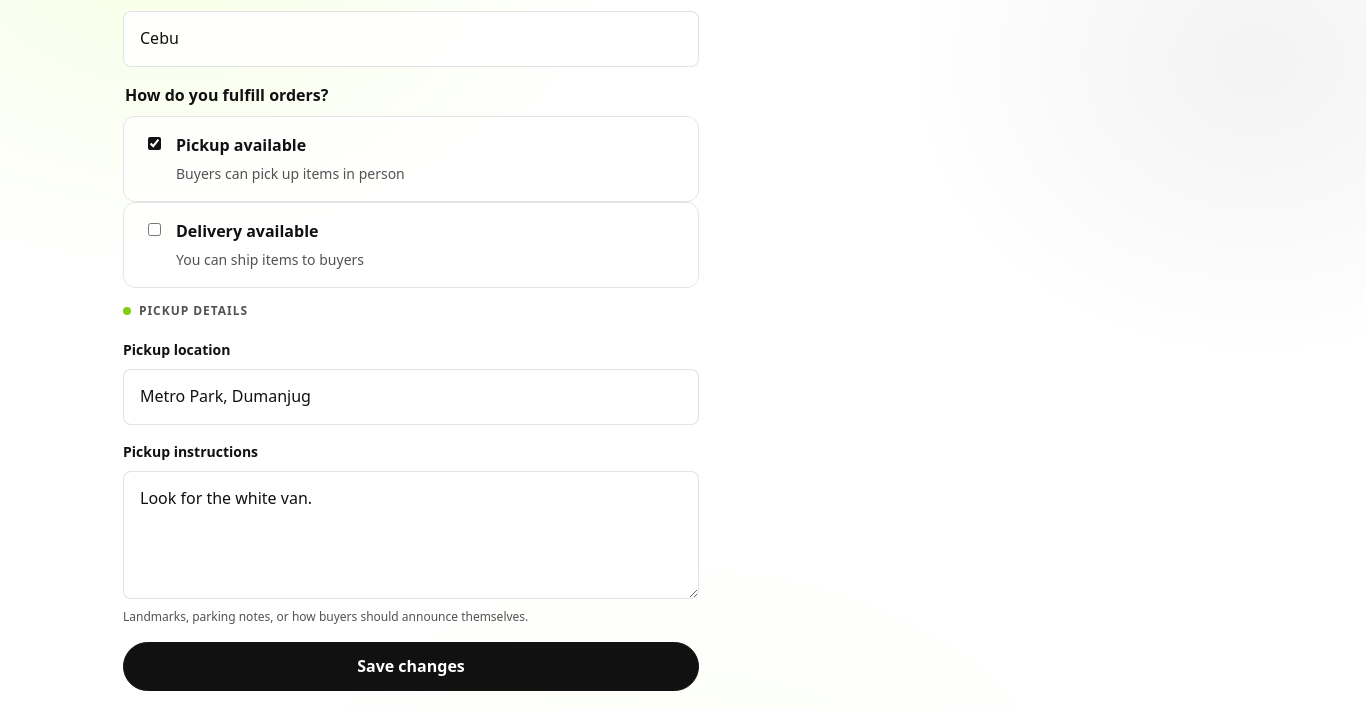
Scenario: SellerProfilePage › saves the safe fields and refreshes the profile
The width and height of the screenshot is (1366, 710).
(page scrolled)
What coordinates should you click on to do the following:
click the button "Save changes"
I would click on:
 (411, 666)
Its box is [123, 642, 699, 691].
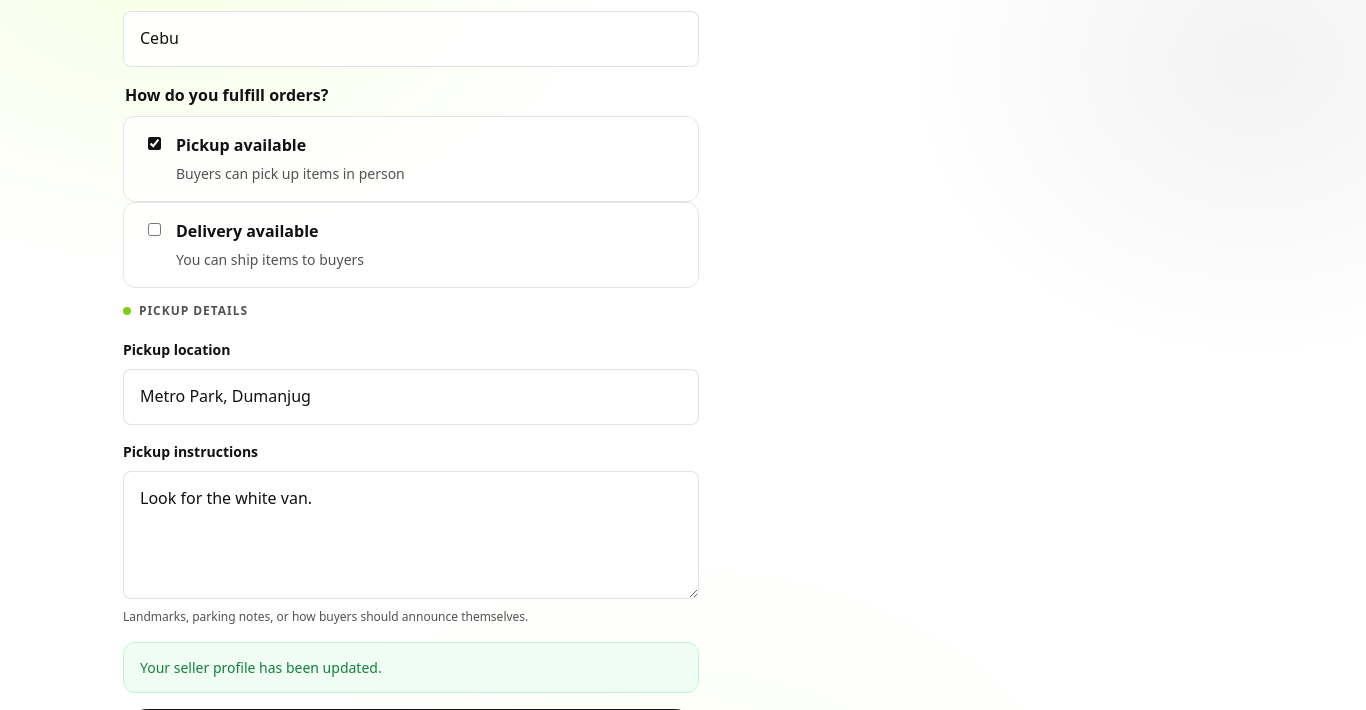
Expected: the text "Your seller profile has been updated." is shown, [123, 642, 699, 693]
